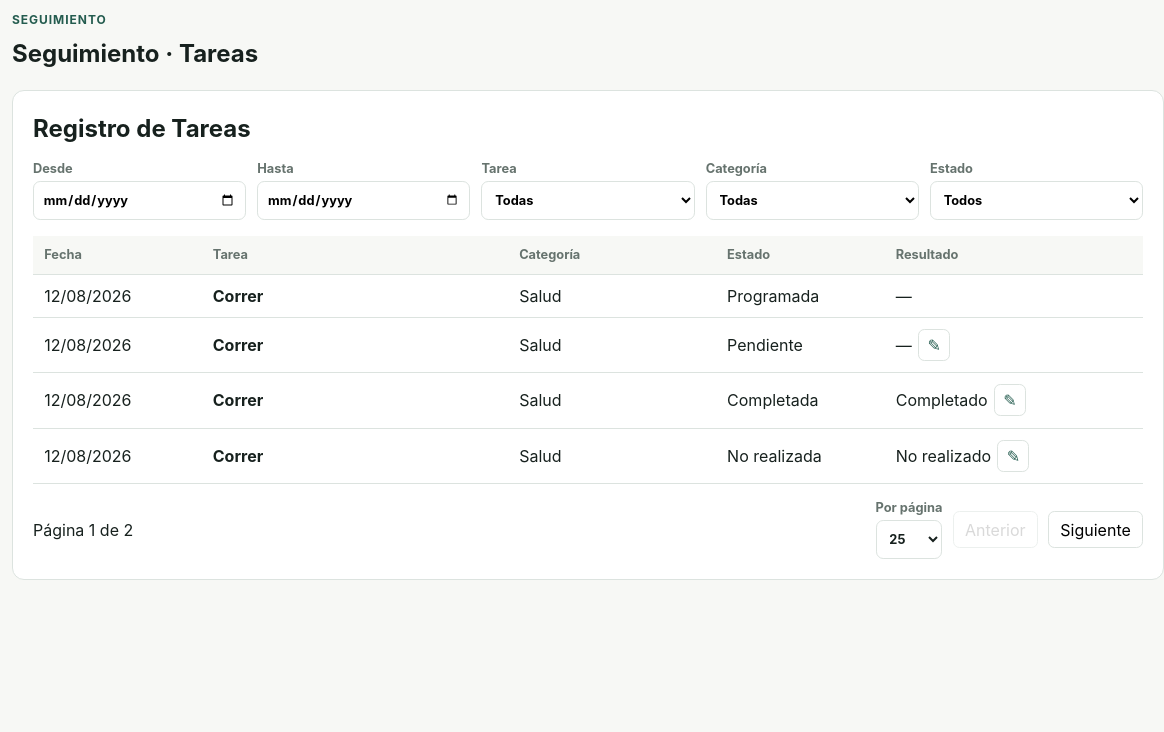
Test: TrackingTasksPage › clears stale result state on 409 and refreshes relevant caches
Click the button named "Corregir resultado de Correr" at (1010, 400), box [994, 384, 1026, 416]
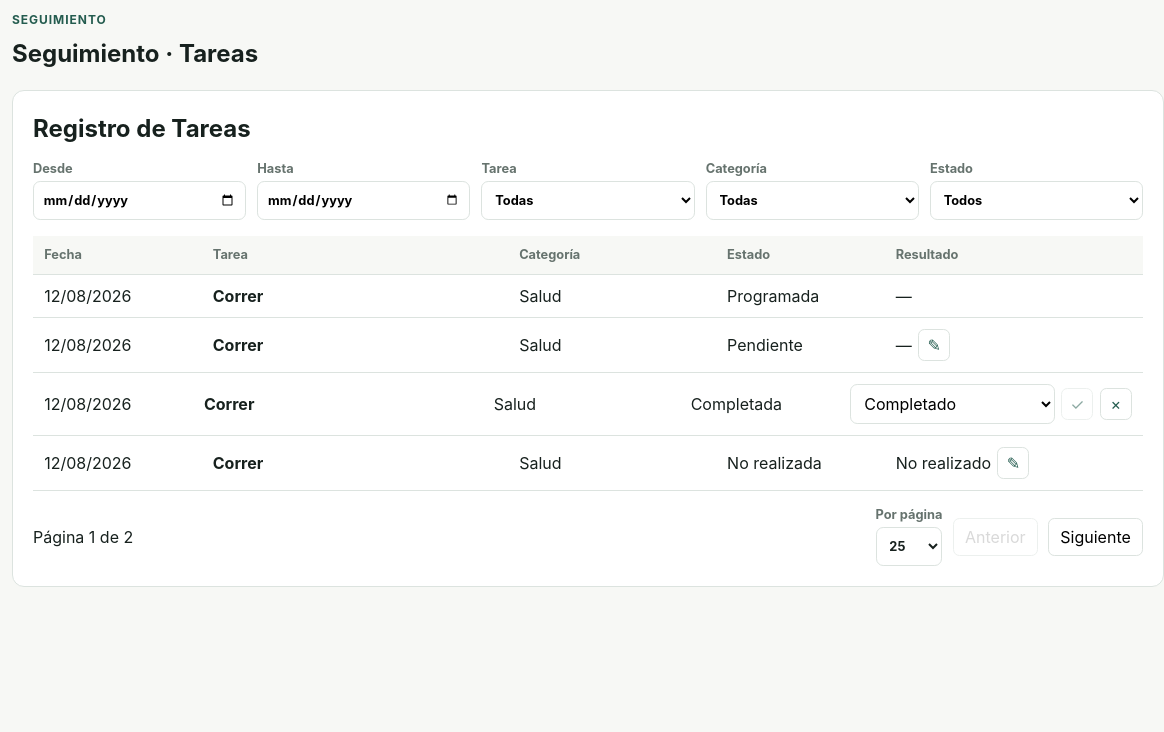
Select "No realizado" in the dropdown named "Resultado de Correr" at (953, 404), box [850, 384, 1055, 424]
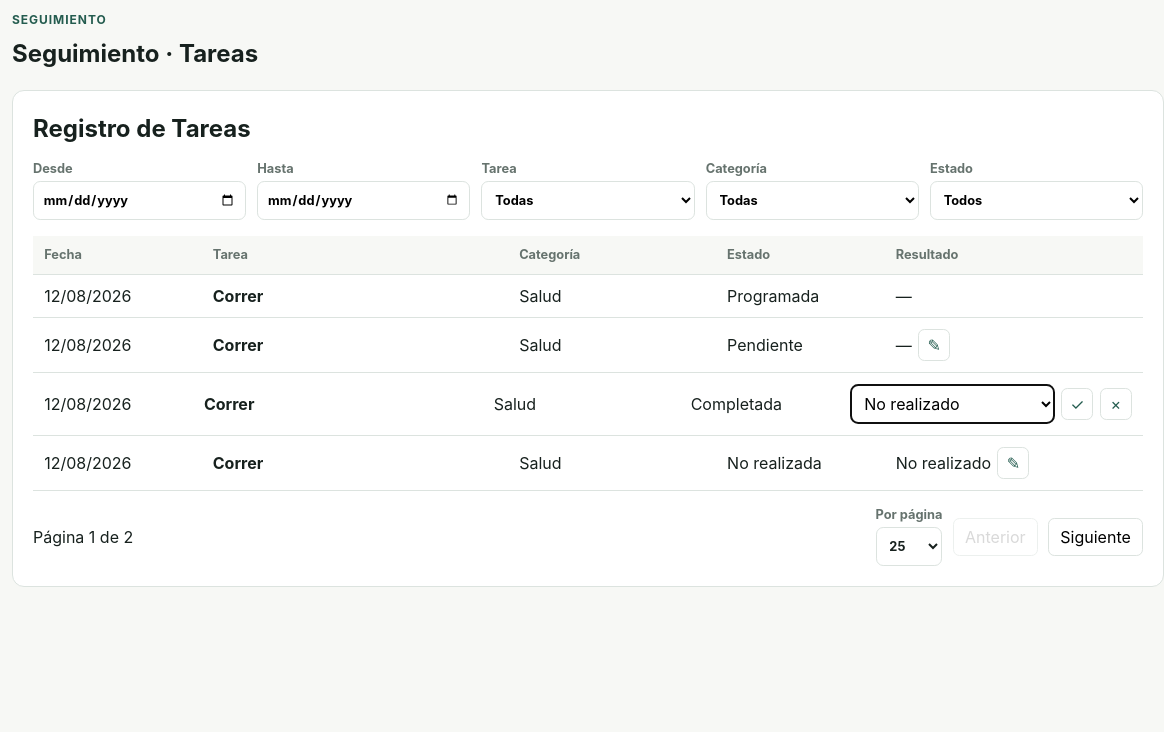
Click the button named "Guardar resultado de Correr" at (1077, 404), box [1061, 388, 1093, 420]
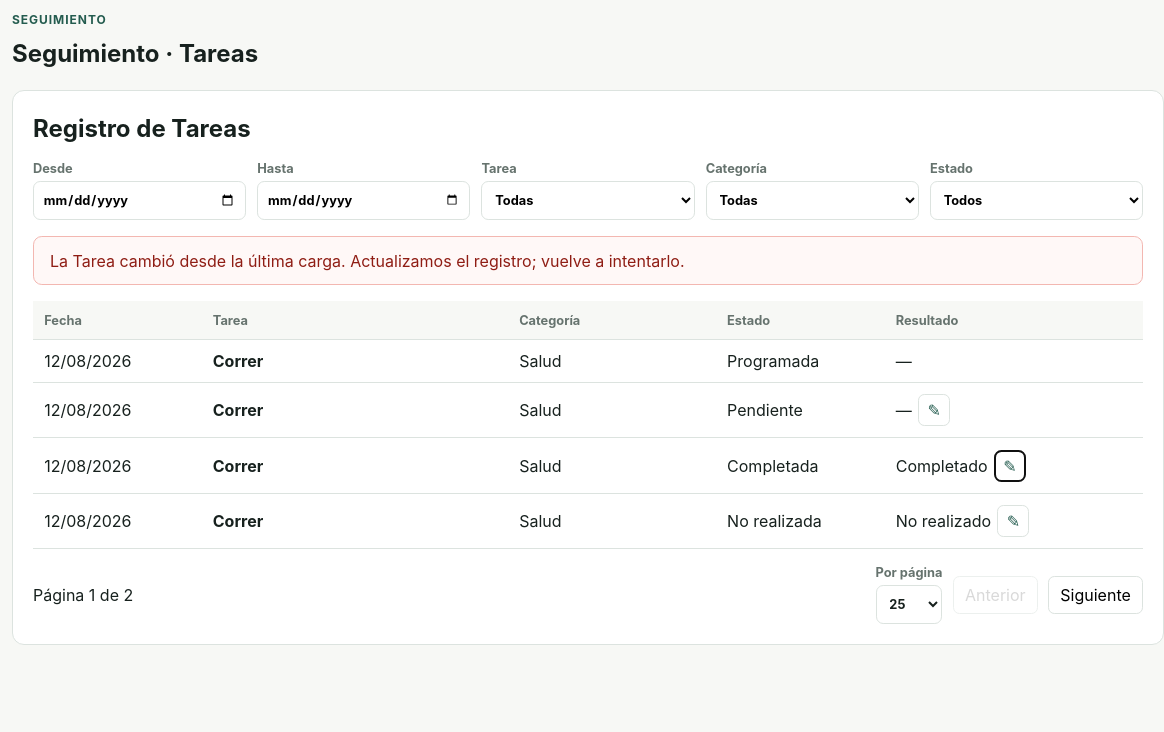
Check: the field labelled "Resultado de Correr" is not shown
Check: the message shows "cambió desde la última carga", box [50, 251, 684, 271]
